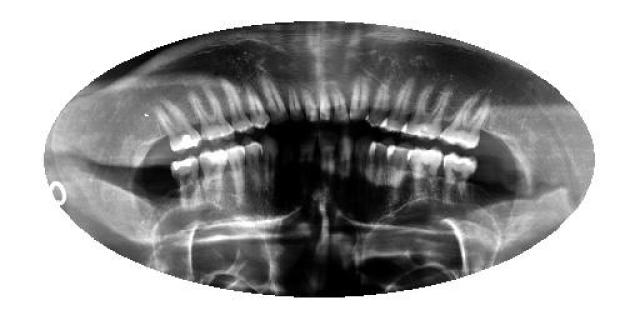Fillings: (158, 98, 200, 154), (171, 158, 201, 208)
